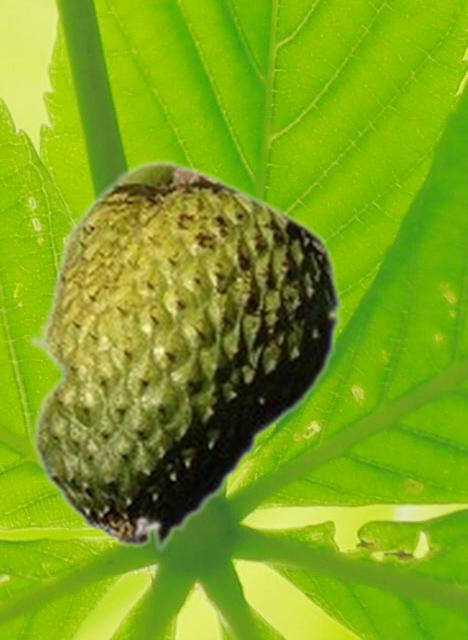guyabano: (27, 158, 343, 553)
